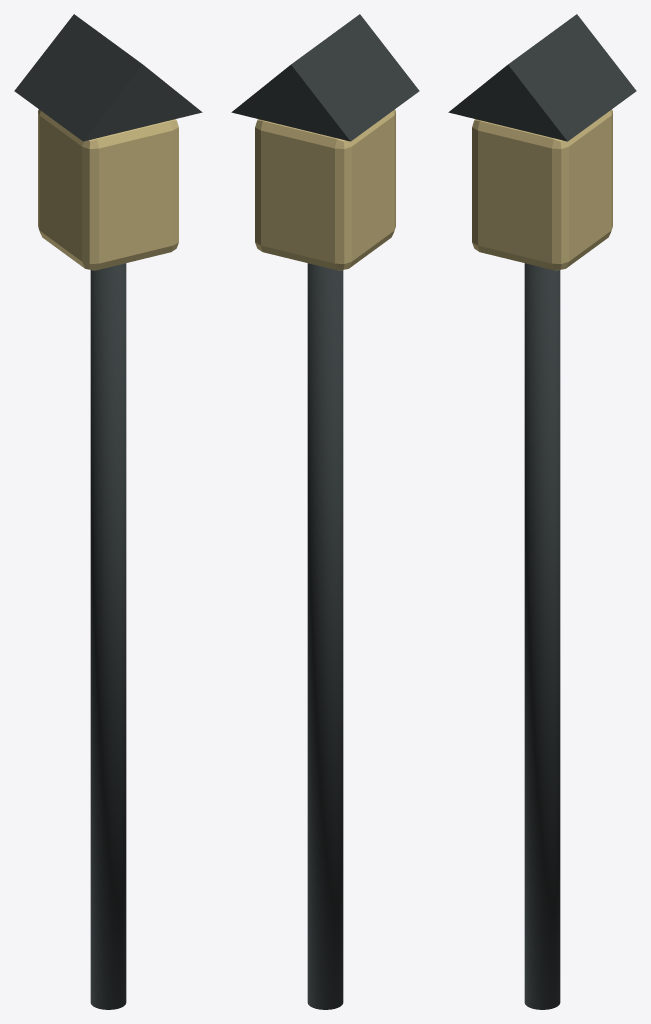
The model's file is platform_lamp.glb.
The picture shows the model from 3 angles, left to right: view 1: azimuth 30°, elevation 25°; view 2: azimuth 150°, elevation 25°; view 3: azimuth 330°, elevation 25°; orthographic projection.
Visible parts, largest first — view 1: platform_lamp_black, platform_lamp_straw; view 2: platform_lamp_black, platform_lamp_straw; view 3: platform_lamp_black, platform_lamp_straw.
Boxes of the visible parts, left/top/right/bottom form: platform_lamp_black: left=14, top=14, right=202, bottom=1009; platform_lamp_straw: left=38, top=109, right=178, bottom=270; platform_lamp_black: left=231, top=14, right=419, bottom=1009; platform_lamp_straw: left=255, top=109, right=395, bottom=270; platform_lamp_black: left=448, top=14, right=636, bottom=1009; platform_lamp_straw: left=472, top=109, right=612, bottom=270.
Bounding box in the file's own units: 0.5 × 3.85 × 0.5.
